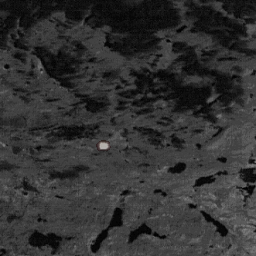Target: (96, 139, 112, 151)
